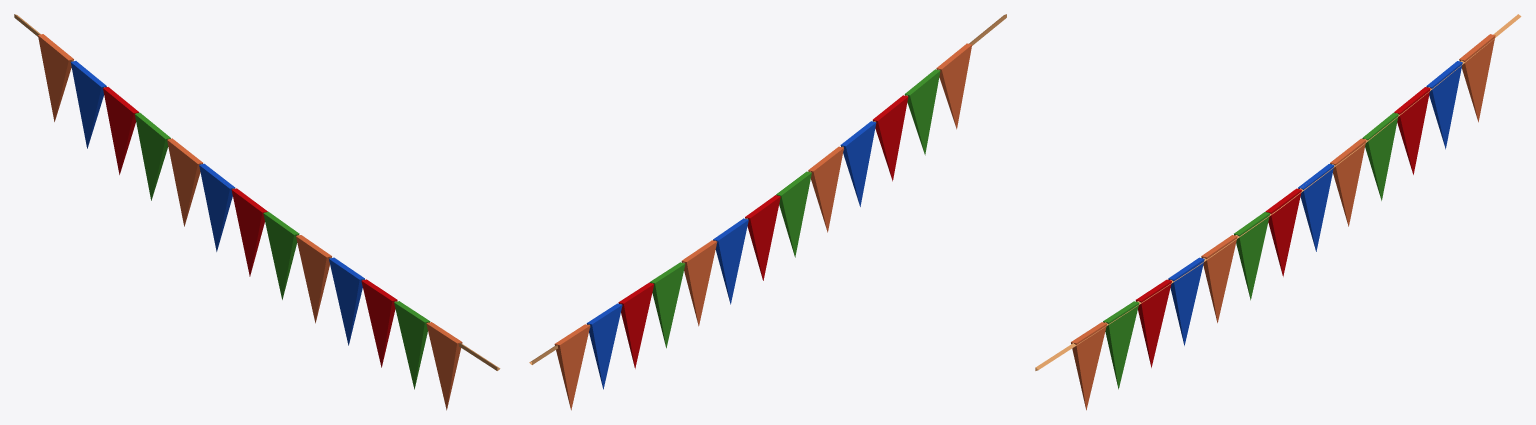
Rendered from market_flags_mat.fbx.
3 views of the same model, side by side, from view 1: azimuth 30°, elevation 25°; view 2: azimuth 150°, elevation 25°; view 3: azimuth 330°, elevation 25° (orthographic).
Parts seen in each view (by area): view 1: market_flags_mat; view 2: market_flags_mat; view 3: market_flags_mat.
Part boxes in pixels (<box>): market_flags_mat: <box>14,14,500,410</box>; market_flags_mat: <box>529,14,1006,410</box>; market_flags_mat: <box>1035,14,1521,410</box>.
Size of the model in its own units: 3.21 by 47.6 by 457.
